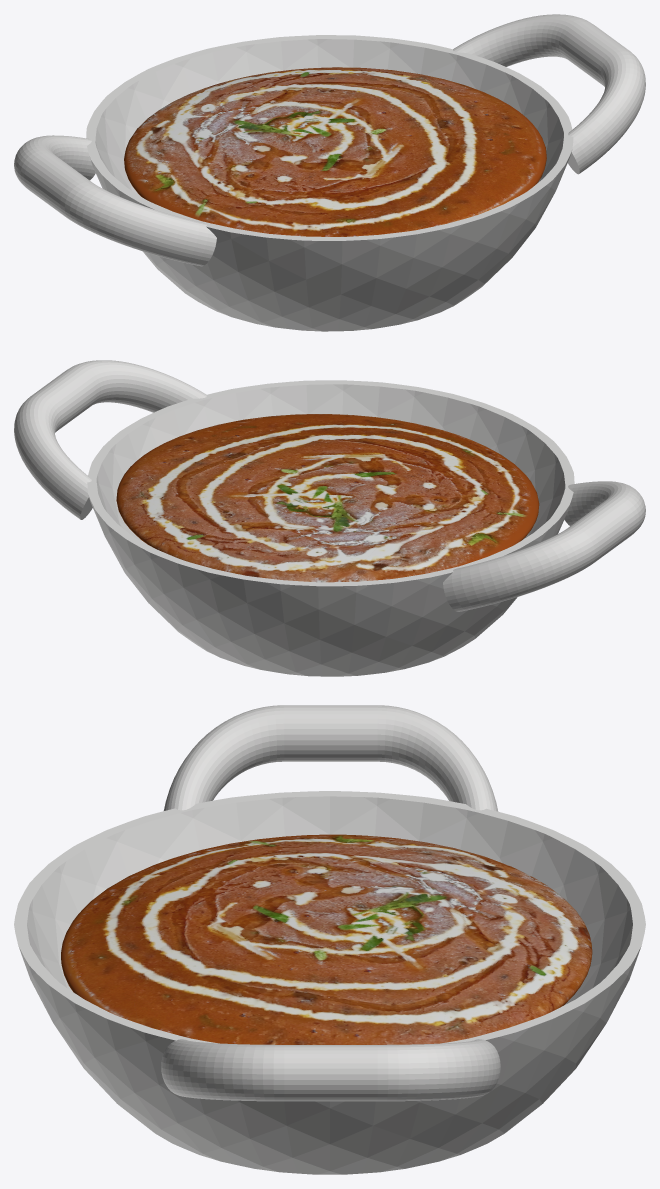
The model's file is paneerbuttermasala.glb.
3 views of the same model, one above another, from view 1: azimuth 30°, elevation 25°; view 2: azimuth 150°, elevation 25°; view 3: azimuth 270°, elevation 25° (orthographic). The views are drawn at different scales.
Visible parts, largest first — view 1: group_0_14541540_0, cu02_2_1; view 2: group_0_14541540_0, cu02_2_1; view 3: group_0_14541540_0, cu02_2_1.
Part boxes in pixels (bbox=[...]): group_0_14541540_0: bbox=[14, 14, 645, 331]; cu02_2_1: bbox=[124, 67, 546, 236]; group_0_14541540_0: bbox=[14, 360, 645, 676]; cu02_2_1: bbox=[116, 414, 539, 582]; group_0_14541540_0: bbox=[14, 705, 645, 1174]; cu02_2_1: bbox=[61, 834, 592, 1044].
Bounding box in the file's own units: 0.076 × 0.0206 × 0.0558.
2 materials, 1 textured.
